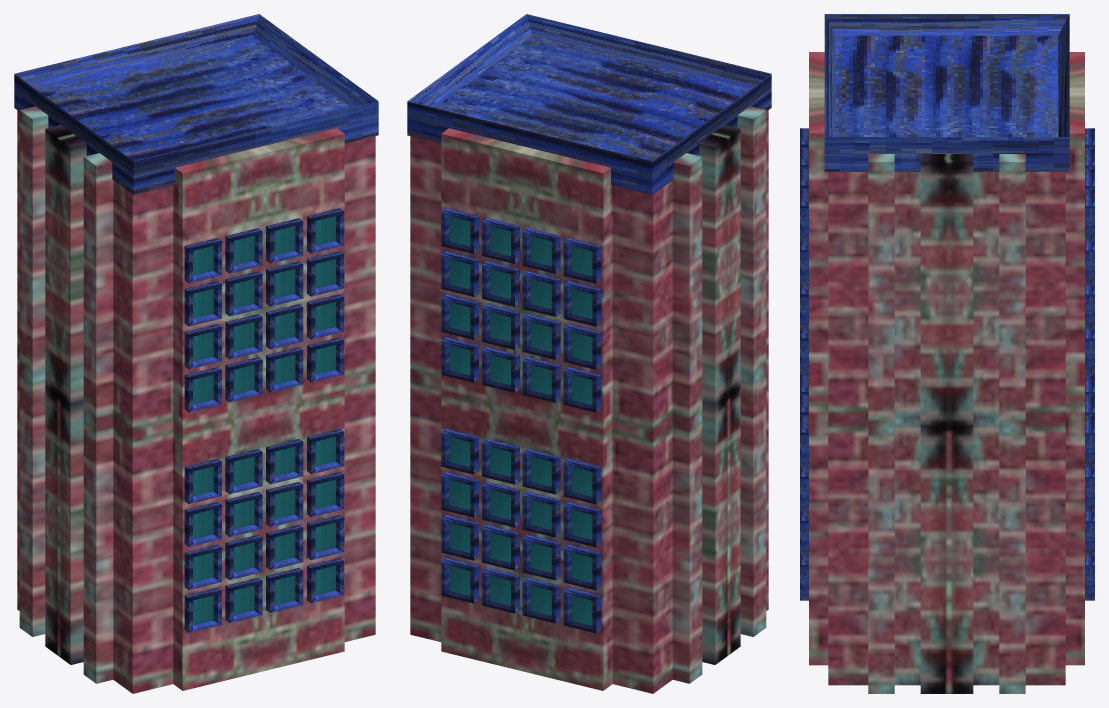
Rendered from nycbuild3.fbx.
3 renders of one model, left to right at view 1: azimuth 30°, elevation 25°; view 2: azimuth 150°, elevation 25°; view 3: azimuth 270°, elevation 25°, orthographic. The views are drawn at different scales.
Parts seen in each view (by area): view 1: pCube9, pCube20, pCube21, pPlane1, pTorus1; view 2: pCube9, pCube20, pCube21, pPlane1, pTorus1; view 3: pCube9, pPlane1, pTorus1, pCube21, pCube20.
Boxes of the visible parts, box(x1,y1,x2,y2) form: pCube9: box(17, 106, 375, 693); pCube20: box(184, 429, 344, 632); pCube21: box(184, 208, 344, 412); pPlane1: box(36, 36, 351, 160); pTorus1: box(14, 14, 378, 194); pCube9: box(410, 106, 768, 693); pCube20: box(441, 429, 601, 633); pCube21: box(441, 208, 601, 412); pPlane1: box(434, 36, 749, 160); pTorus1: box(407, 14, 771, 194); pCube9: box(809, 52, 1084, 693); pPlane1: box(835, 35, 1058, 136); pTorus1: box(824, 14, 1069, 171); pCube21: box(800, 128, 1094, 373); pCube20: box(800, 374, 1094, 600).
Bounding box in the file's own units: 27.58 × 50.87 × 24.77.
